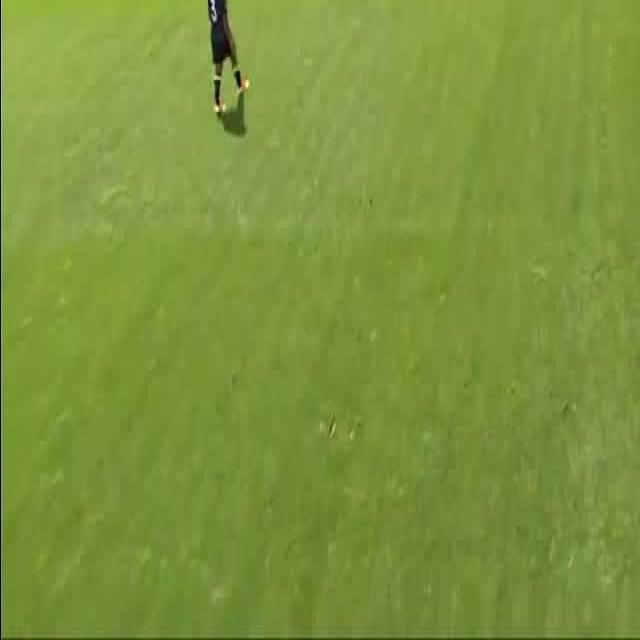player-white: (206, 0, 250, 116)
